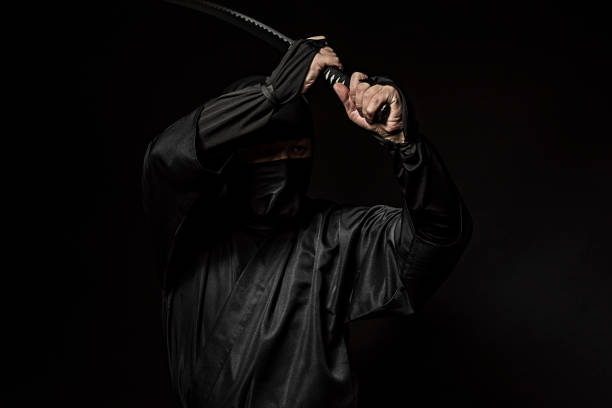knife: (155, 0, 394, 129)
